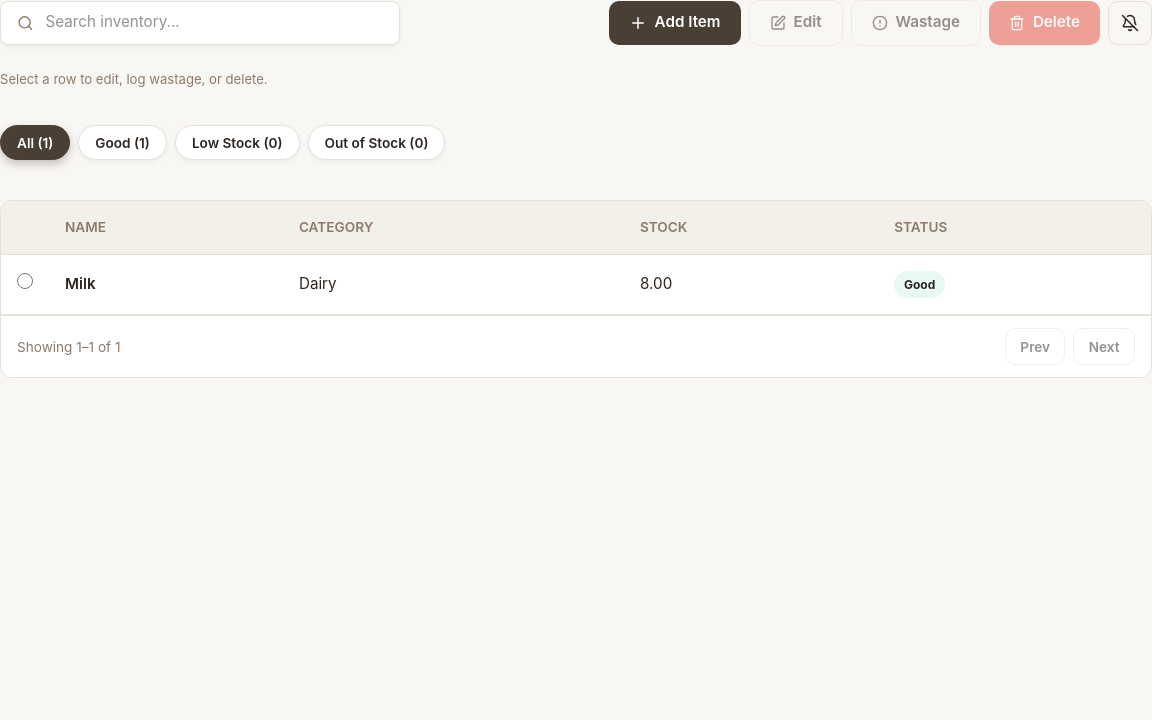
Scenario: InventoryPage roles › should queue an offline add and lock the pending row
The image size is (1152, 720).
Check: the text "Milk" is shown, box x1=49 y1=254 x2=283 y2=315
Click the button "Add Item": (675, 23) x1=609 y1=1 x2=740 y2=45
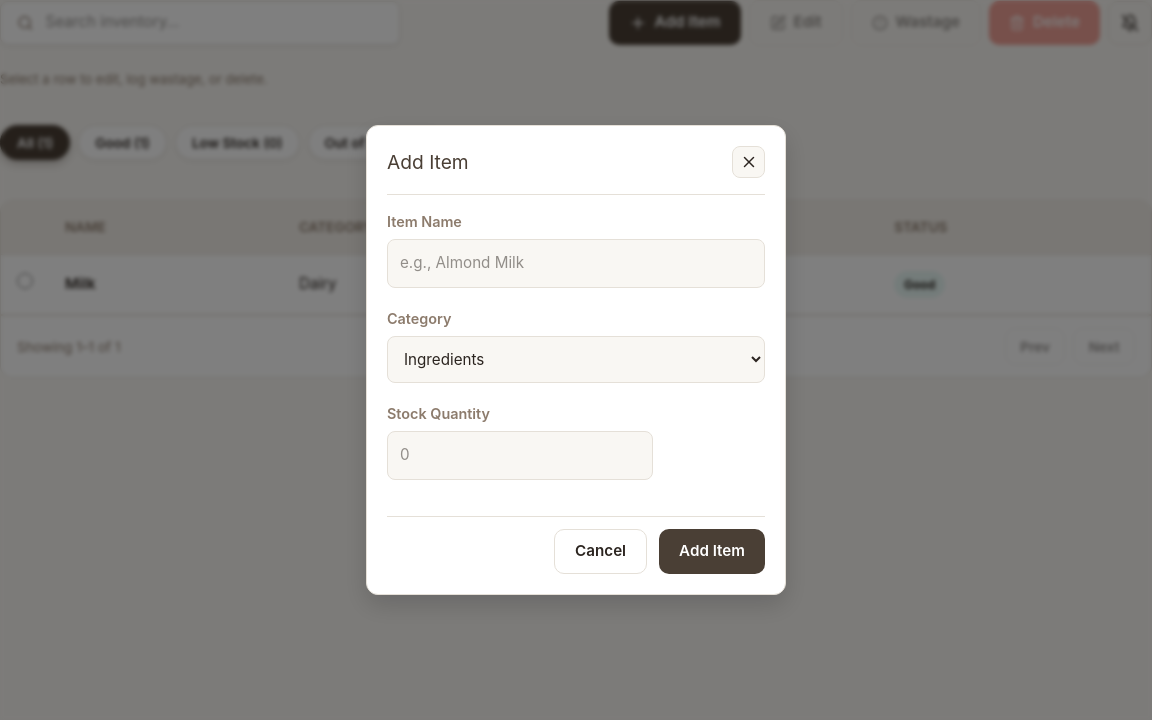
In the field with placeholder "e.g., Almond Milk": (576, 264) x1=387 y1=239 x2=765 y2=288, type "Oats"
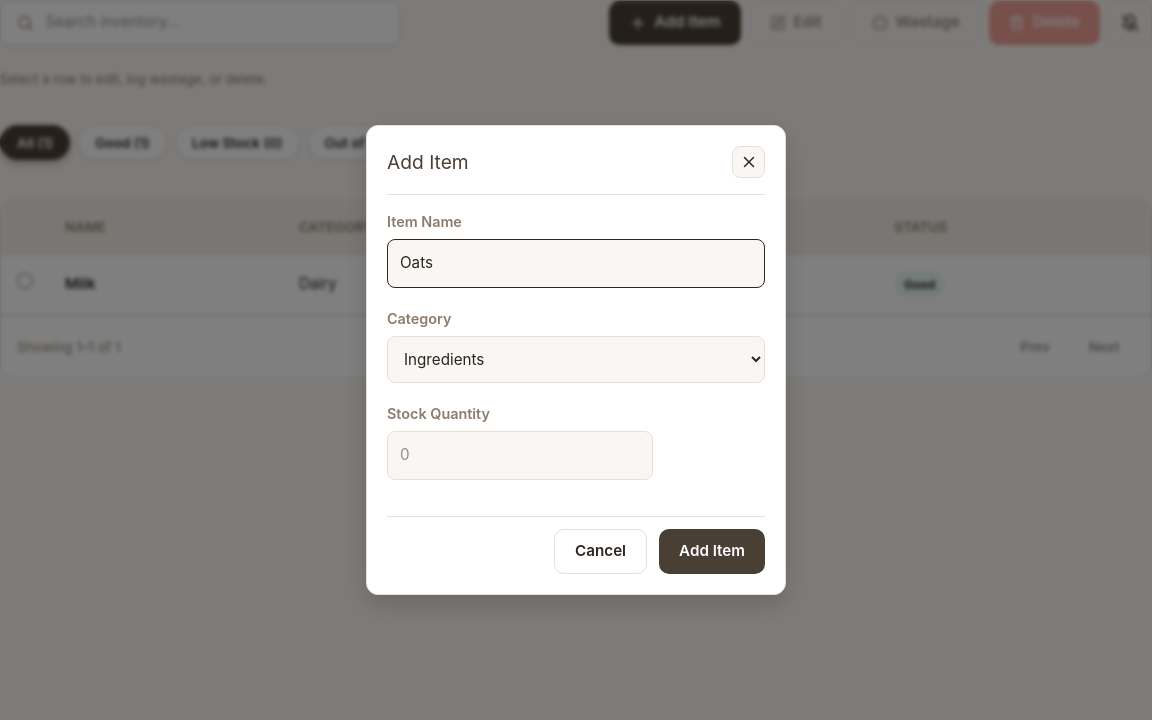
In the number field with placeholder "0": (520, 456) x1=387 y1=431 x2=653 y2=480, type "5"
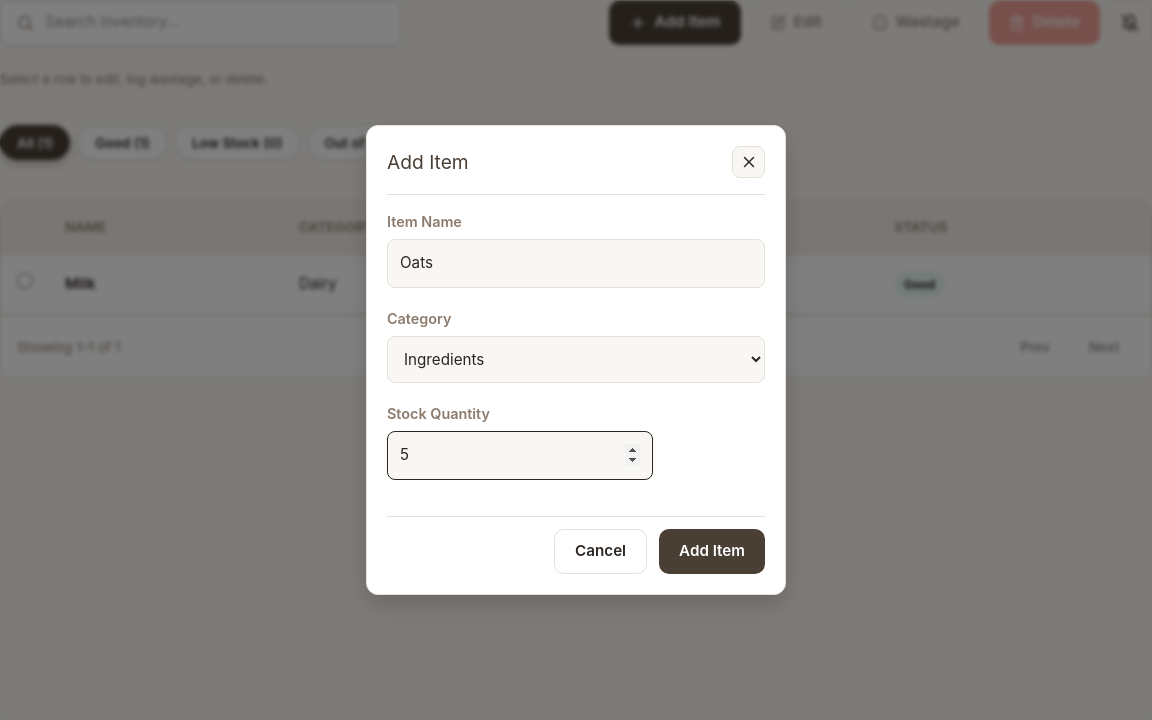
Click the button "Add Item": (712, 552) x1=659 y1=529 x2=765 y2=574
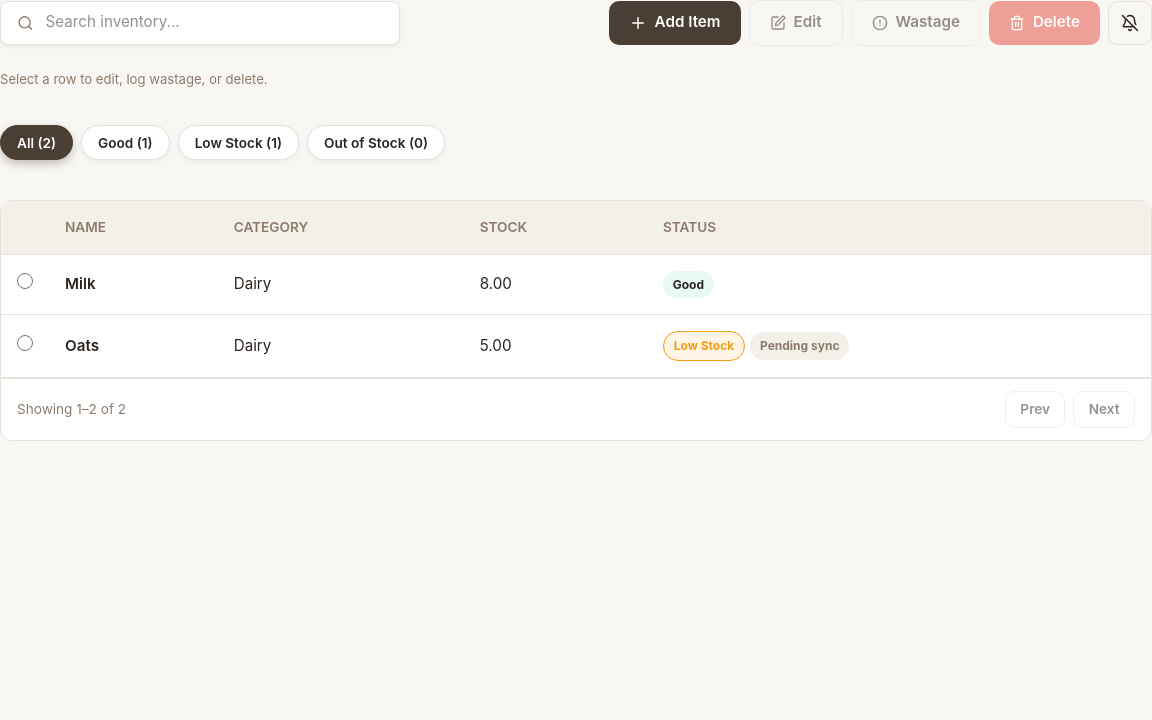
Check: the text "Pending sync" is shown, box x1=750 y1=332 x2=849 y2=360
// Selecting the pending row locks the toolbar until it syncs back.
Click the radio button with test id "select-item-temp-9": (25, 343) x1=17 y1=335 x2=33 y2=351
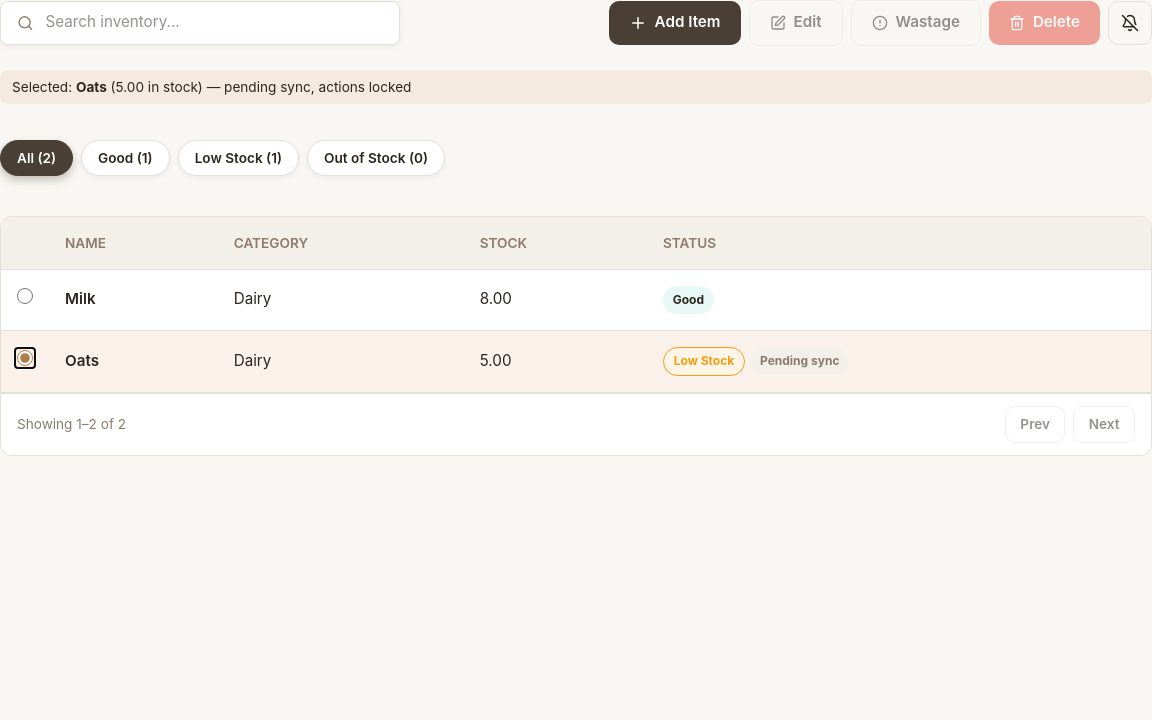
Check: the button with test id "toolbar-edit-btn" is disabled, box x1=748 y1=0 x2=842 y2=46
Check: the element with test id "selected-chip" shows "pending sync", box x1=203 y1=79 x2=411 y2=95
